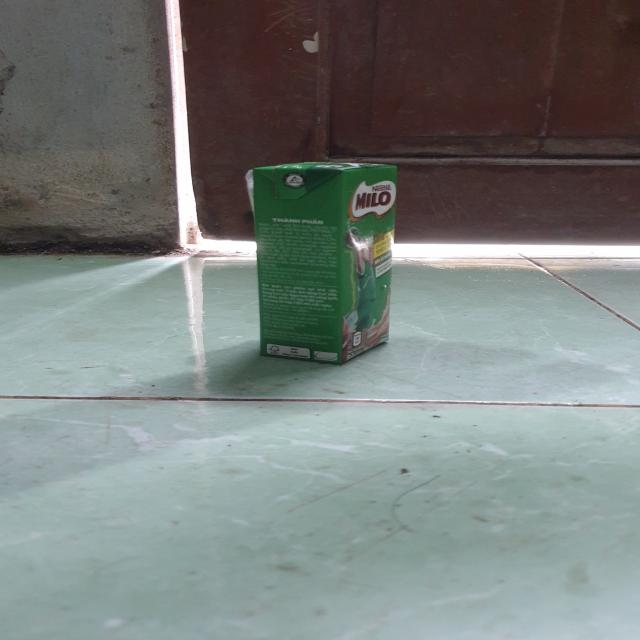Milo: (250, 157, 405, 368)
